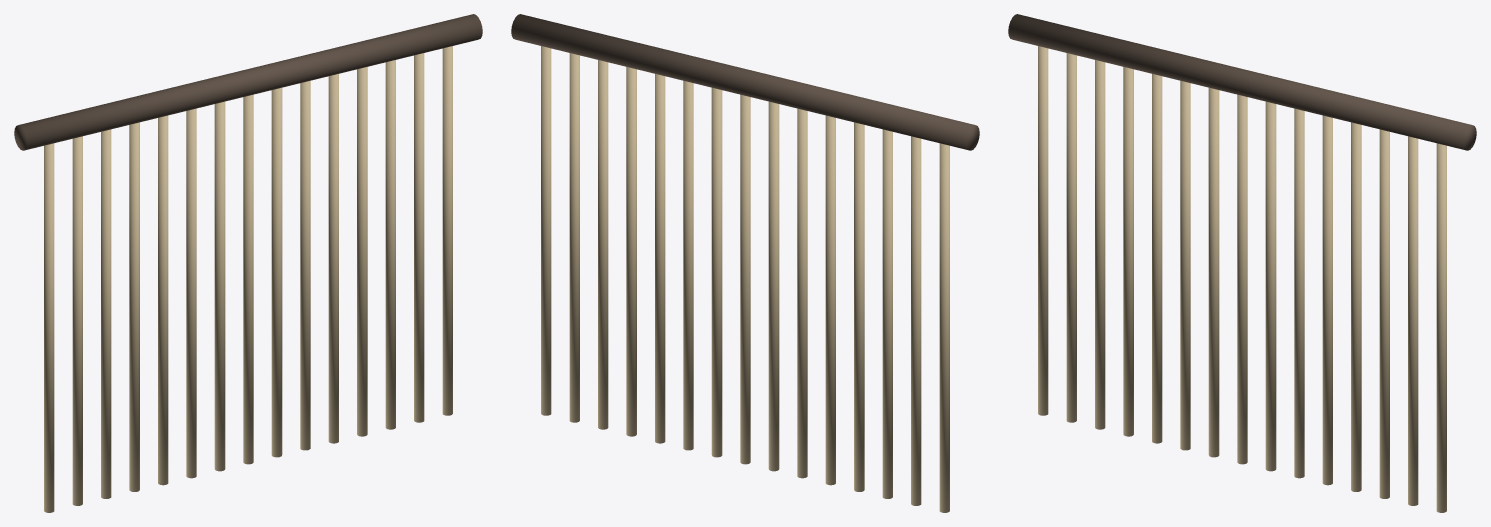
Rendered from prop_nawa_noren.glb.
The picture shows the model from 3 angles, left to right: view 1: azimuth 30°, elevation 25°; view 2: azimuth 150°, elevation 25°; view 3: azimuth 330°, elevation 25°; orthographic projection.
Parts seen in each view (by area): view 1: nawa_noren; view 2: nawa_noren; view 3: nawa_noren.
Boxes of the visible parts, bbox=[...] form: nawa_noren: bbox=[14, 14, 482, 512]; nawa_noren: bbox=[511, 14, 979, 512]; nawa_noren: bbox=[1008, 14, 1476, 512].
Bounding box in the file's own units: 1.6 × 1.32 × 0.08.
